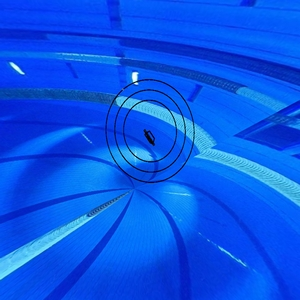circle: (102, 74, 197, 186)
submarine: (142, 126, 160, 150)
